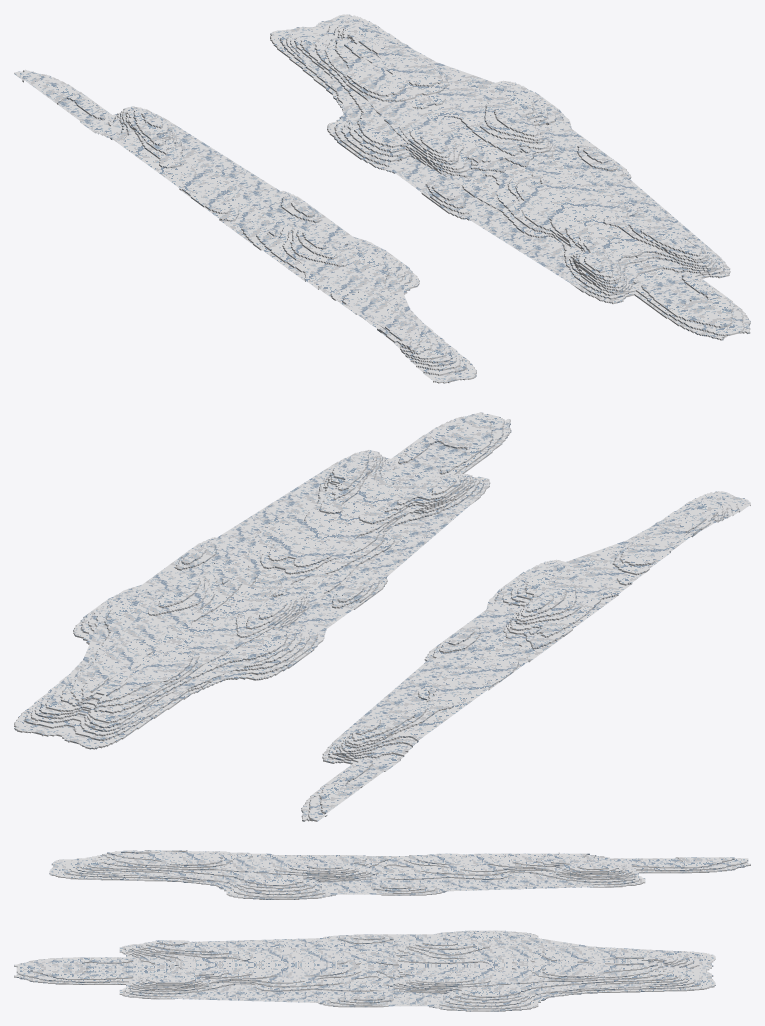
The model's file is Ground.fbx.
The picture shows the model from 3 angles, top to bottom: view 1: azimuth 30°, elevation 25°; view 2: azimuth 150°, elevation 25°; view 3: azimuth 270°, elevation 25°; orthographic projection. The views are drawn at different scales.
Visible parts, largest first — view 1: Plane.002, Plane; view 2: Plane.002, Plane; view 3: Plane.002, Plane.
Part boxes in pixels (x1=…): Plane.002: x1=270, y1=14, x2=750, y2=340; Plane: x1=14, y1=69, x2=476, y2=383; Plane.002: x1=14, y1=412, x2=511, y2=749; Plane: x1=301, y1=491, x2=750, y2=821; Plane.002: x1=14, y1=930, x2=715, y2=1011; Plane: x1=49, y1=850, x2=750, y2=899.
Bounding box in the file's own units: 1777 × 69.3 × 3692.
